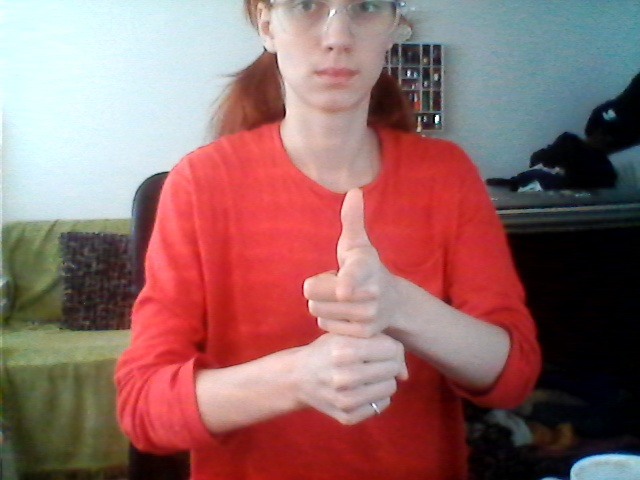kamera: (284, 183, 430, 446)
